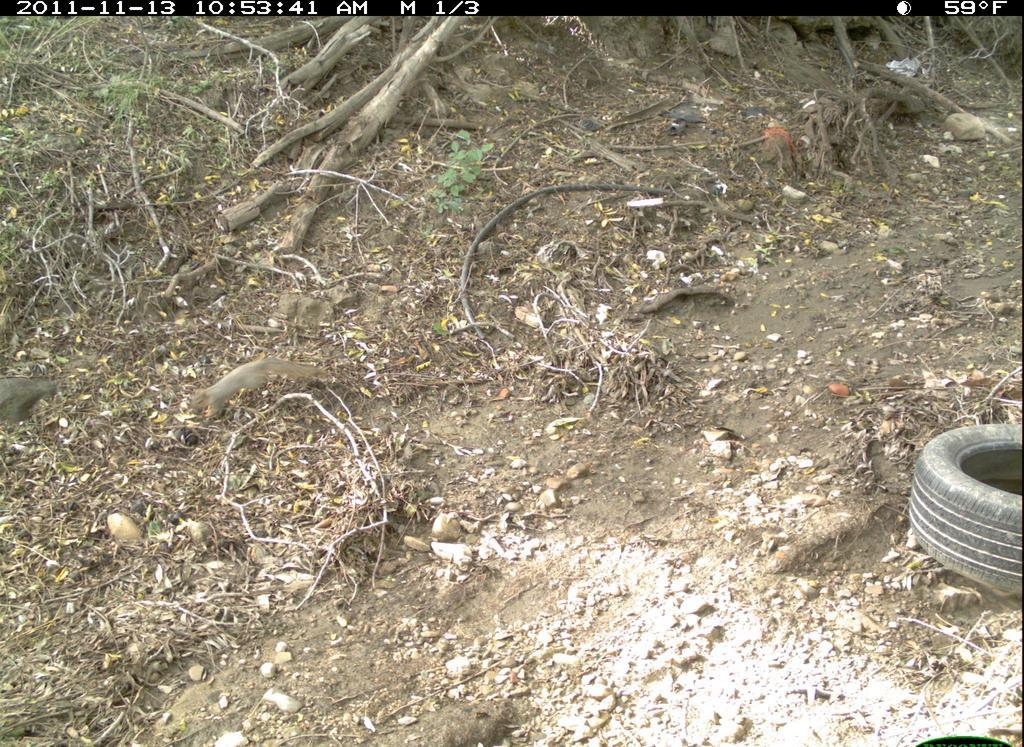squirrel: (182, 349, 331, 431)
